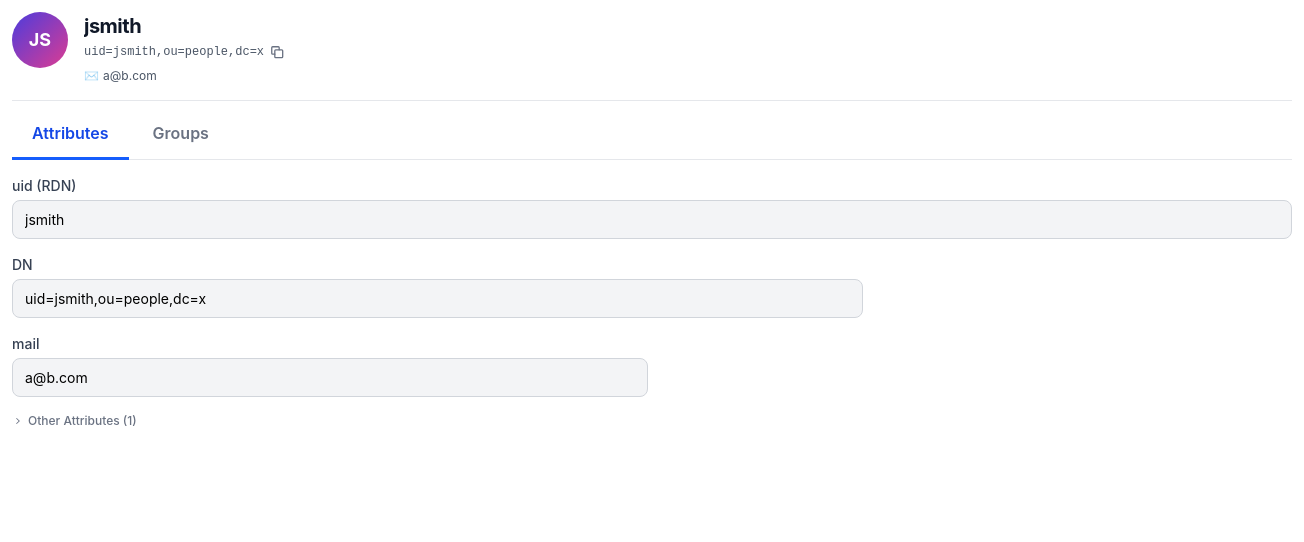
Test case: UserForm read-only mode › disables every attribute field, including the Other Attributes overflow
Click the button "Other Attributes (1)" at (74, 421), box x1=12 y1=413 x2=137 y2=429
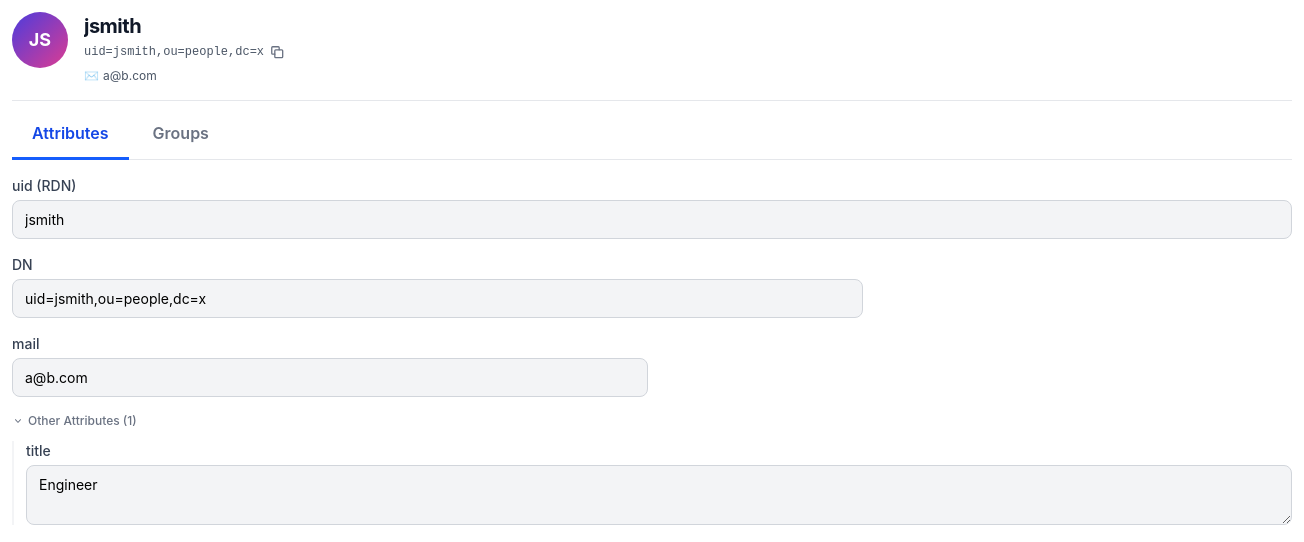
expect the field labelled "uid (RDN)" is disabled: met, box x1=12 y1=200 x2=1292 y2=239
expect the text box labelled "title" is disabled: met, box x1=26 y1=465 x2=1292 y2=525
